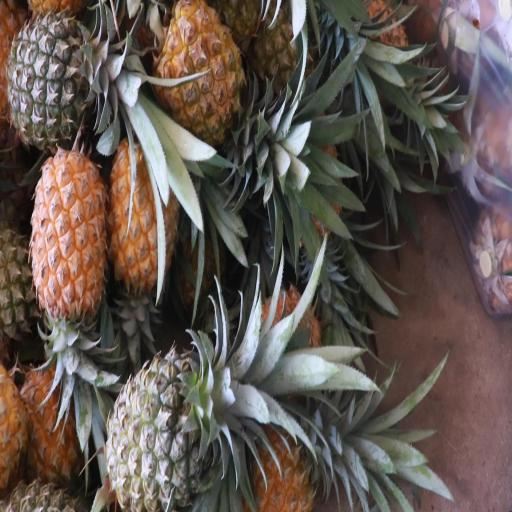Pineapple - v8 v1: (157, 2, 274, 142), (34, 151, 106, 364), (108, 139, 179, 302)
